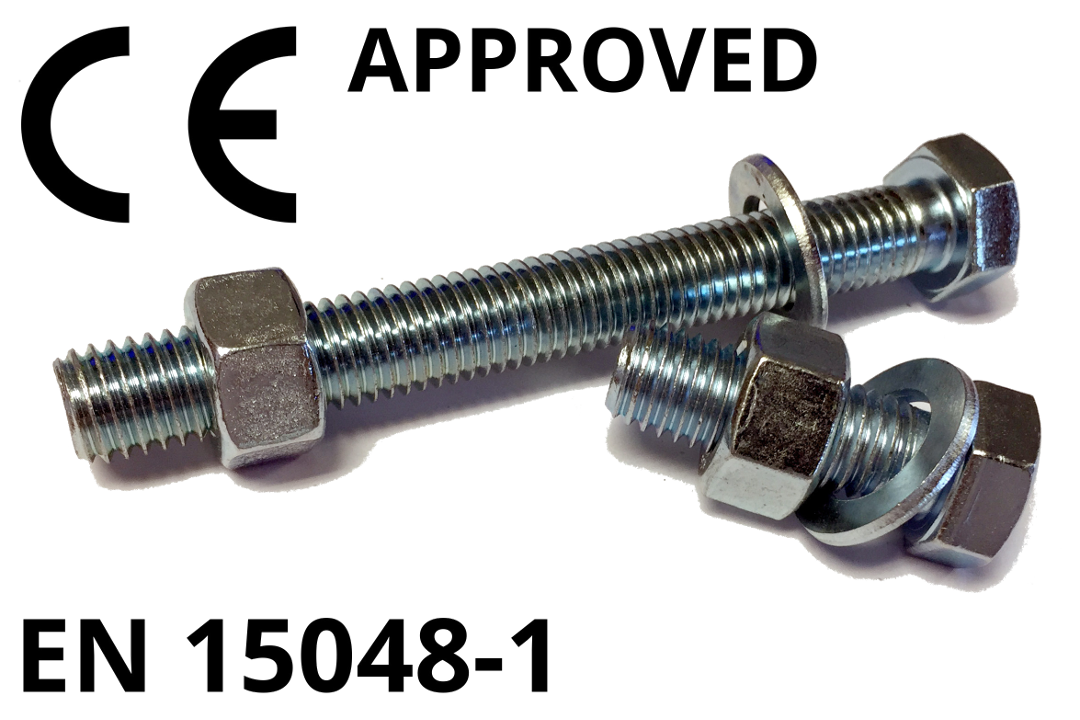loaded bolt: (44, 115, 1031, 494), (584, 295, 1054, 592)
